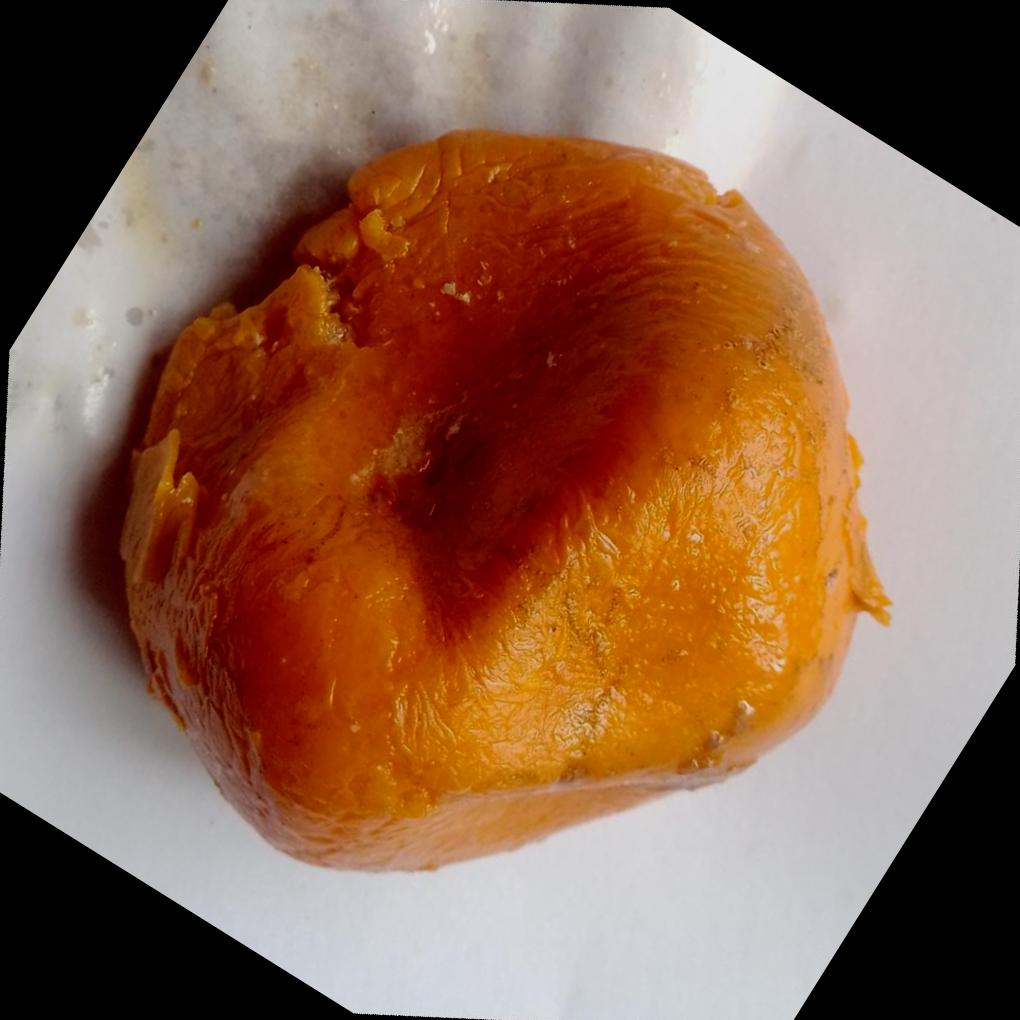FreshOrange: (112, 127, 893, 876)
